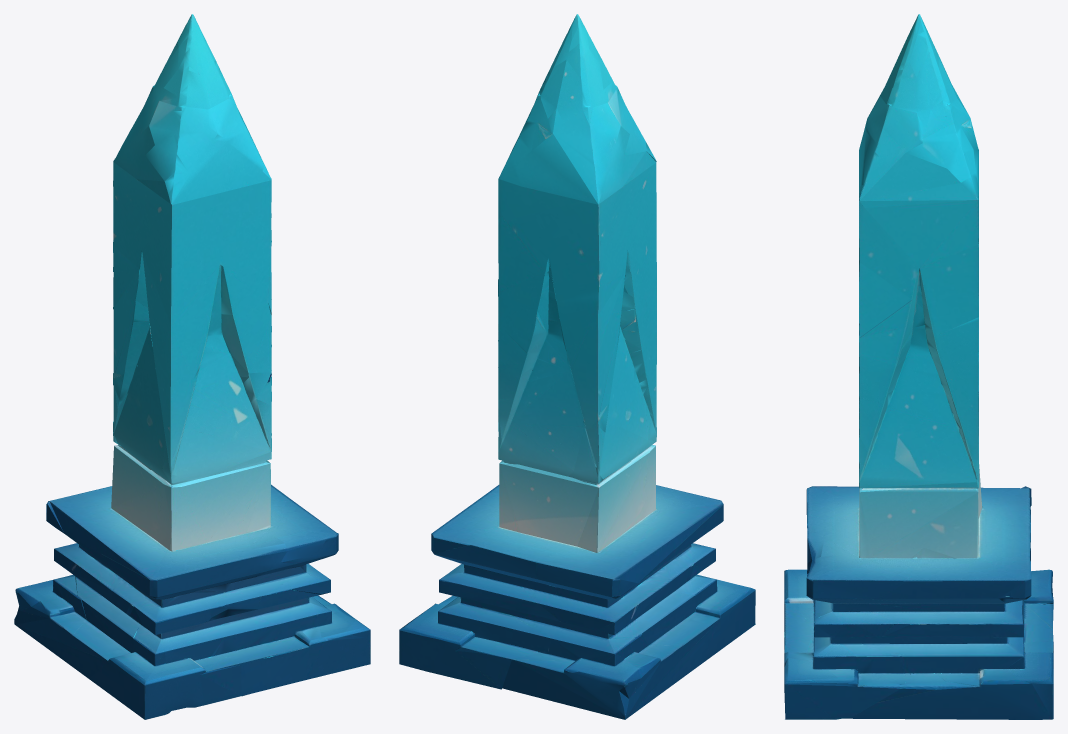
File: skill-ts.glb
3 renders of one model, left to right at view 1: azimuth 30°, elevation 25°; view 2: azimuth 150°, elevation 25°; view 3: azimuth 270°, elevation 25°, orthographic. The views are drawn at different scales.
Bounding box in the file's own units: 0.715 × 1.9 × 0.7152.
Materials: 1 (1 with a texture image).
